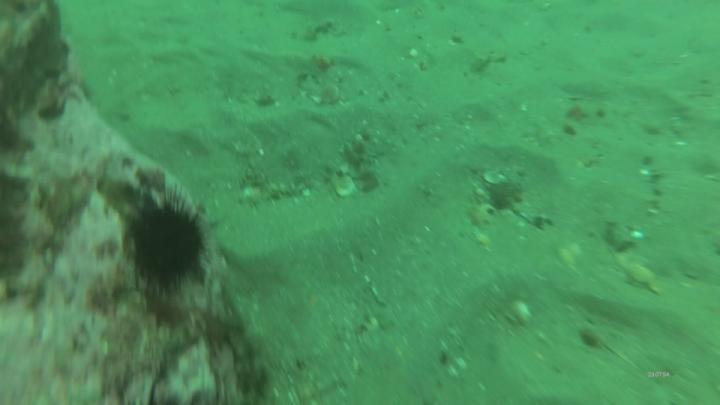echinus: (124, 198, 207, 300)
